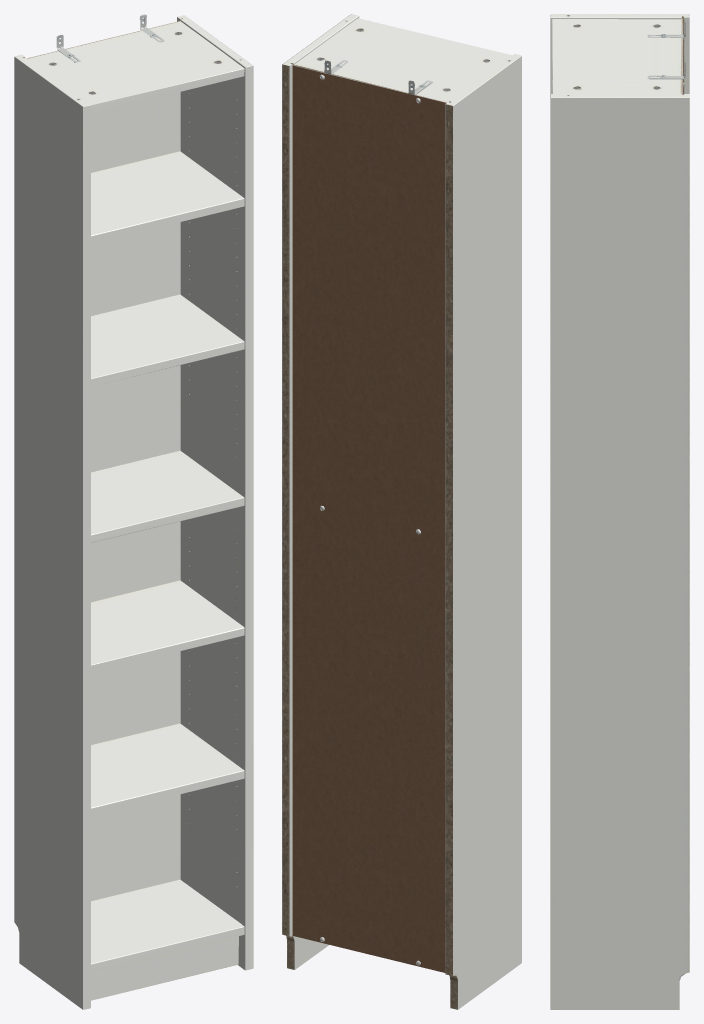
The model's file is storage-7.glb.
The picture shows the model from 3 angles, left to right: view 1: azimuth 30°, elevation 25°; view 2: azimuth 150°, elevation 25°; view 3: azimuth 270°, elevation 25°; orthographic projection.
Parts seen in each view (by area): view 1: ASY_ART_50522040_S01_NV01; view 2: ASY_ART_50522040_S01_NV01; view 3: ASY_ART_50522040_S01_NV01.
Boxes of the visible parts, x1,y1,x2,y2 form: ASY_ART_50522040_S01_NV01: (14, 14, 253, 1009); ASY_ART_50522040_S01_NV01: (282, 14, 521, 1009); ASY_ART_50522040_S01_NV01: (550, 14, 689, 1009).
Size of the model in its own units: 0.3983 by 2.05 by 0.2792.
Materials: 1 (1 with a texture image).
